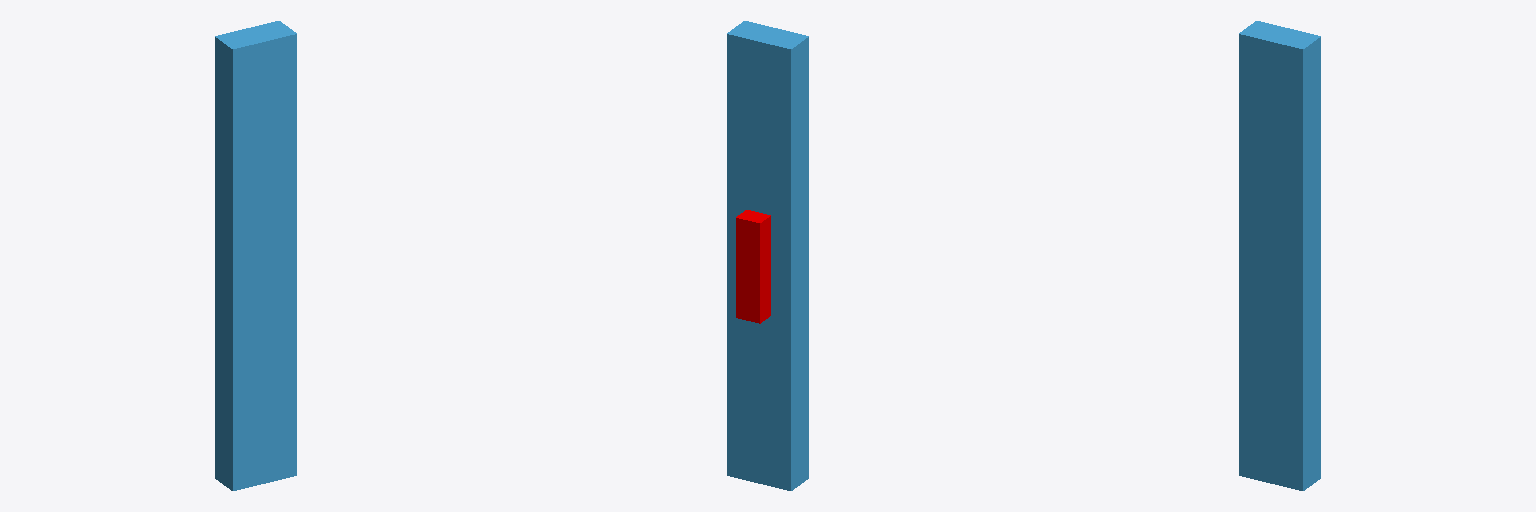
URDF robot description (knife):
<?xml version='1.0' encoding='utf-8'?>
<robot name="knife">
  <link name="link_1">
    <visual name="link_1">
      <origin xyz="0 0.008841 0" rpy="0 0 0" />
      <geometry>
        <box size="0.008627264904931606 0.006675983584381633 0.03349953985263216" /></geometry>
    <material name="red"><color rgba="1 0 0 1" /></material></visual>
    <collision>
      <origin xyz="0 0.008841 0" rpy="0 0 0" />
      <geometry>
        <box size="0.008627264904931606 0.006675983584381633 0.03349953985263216" /></geometry>
    </collision>
    </link>
  <joint name="joint_1" type="prismatic">
    <origin xyz="0 0 0" />
    <axis xyz="0 0 1" />
    <child link="link_1" />
    <parent link="link_0" />
    <limit lower="-0.039895" upper="0.010105" effort="100.0" velocity="1.0" />
  </joint>
  <link name="link_0">
    <visual name="link_0">
      <origin xyz="0 0 0" />
      <geometry>
        <box size="0.022644126596564954 0.01100699865013418 0.14767594764914102" /></geometry>
    </visual>
    <collision>
      <origin xyz="0 0 0" />
      <geometry>
        <box size="0.022644126596564954 0.01100699865013418 0.14767594764914102" /></geometry>
    </collision>
    </link>
</robot>

--- What the picture shows (computed from the rendered views, not written in the file) ---
3 views of the same robot in one strip: view 1: azimuth 30°, elevation 25°; view 2: azimuth 150°, elevation 25°; view 3: azimuth 330°, elevation 25° (orthographic).
Model knife with 2 links and 1 joints (1 prismatic), rooted at link_0, posed all joints at 0.
Visible links, largest first — view 1: link_0; view 2: link_0, link_1; view 3: link_0.
Link boxes in pixels (box(x1,y1,x2,y2)): link_0: box(215, 21, 296, 490); link_0: box(727, 21, 808, 490); link_1: box(736, 210, 770, 323); link_0: box(1239, 21, 1320, 490).
Size in the robot's own frame: 0.0226 by 0.0177 by 0.1477 metres.
Geometry: primitives only (box / cylinder / sphere), no mesh files.
